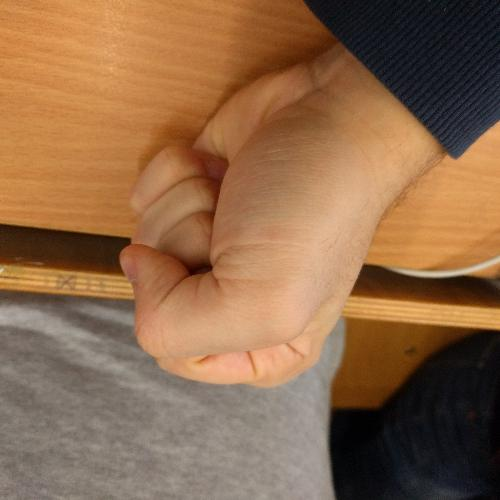rock: (110, 60, 407, 396)
